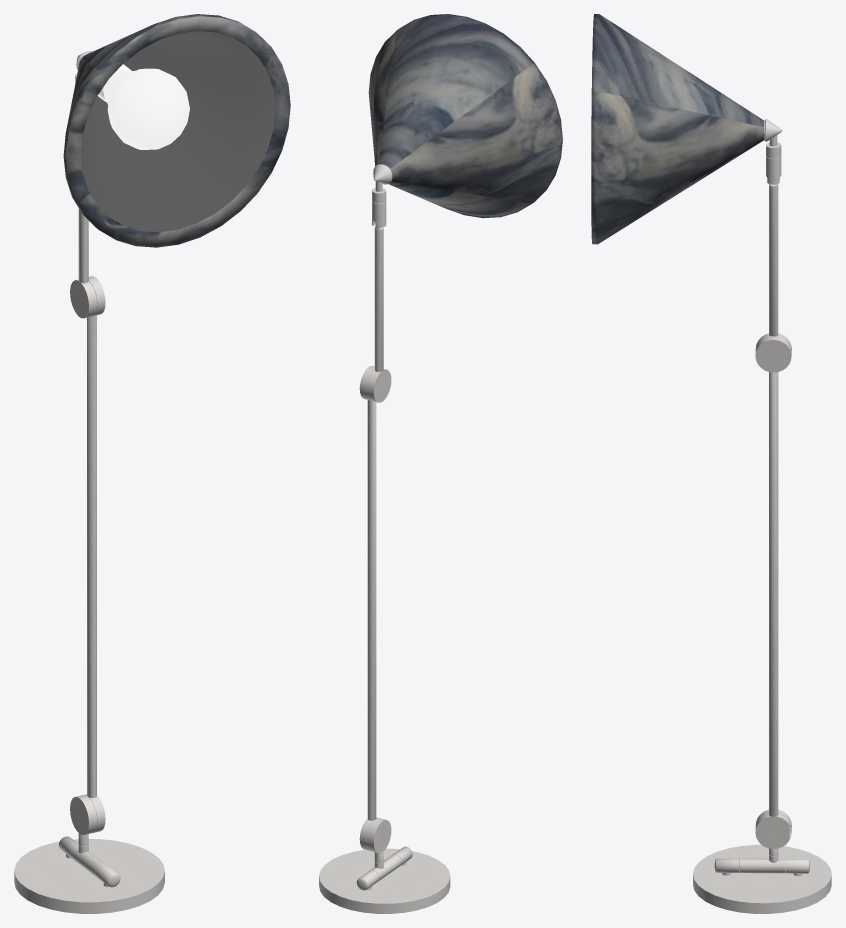
3 views of the same model, side by side, from view 1: azimuth 30°, elevation 25°; view 2: azimuth 150°, elevation 25°; view 3: azimuth 270°, elevation 25° (orthographic). The views are drawn at different scales.
Visible parts, largest first — view 1: Abajur, Support, S_LightBulb, LongArm, ShortArm, CircleJoint, SupportJointHolder; view 2: Abajur, Support, LongArm, ShortArm, CircleJoint, AbajurJoint, SupportJointHolder; view 3: Abajur, LongArm, Support, ShortArm, SupportJointHolder, SupportJoint, AbajurJoint.
Boxes of the visible parts, x1,y1,x2,y2 form: Abajur: (63, 14, 290, 247); Support: (14, 839, 164, 913); S_LightBulb: (97, 64, 189, 149); LongArm: (85, 276, 105, 832); ShortArm: (70, 208, 97, 318); CircleJoint: (70, 795, 97, 846); SupportJointHolder: (58, 836, 120, 887); Abajur: (368, 14, 562, 218); Support: (319, 848, 450, 913); LongArm: (359, 366, 378, 850); ShortArm: (367, 222, 391, 402); CircleJoint: (367, 818, 391, 863); AbajurJoint: (372, 164, 392, 203); SupportJointHolder: (356, 846, 412, 890); Abajur: (591, 14, 763, 244); LongArm: (755, 336, 791, 848); Support: (693, 844, 831, 913); ShortArm: (755, 184, 791, 350); SupportJointHolder: (714, 858, 809, 875); SupportJoint: (739, 854, 785, 873); AbajurJoint: (764, 119, 782, 158).
Bounding box in the file's own units: 6.25 × 25.02 × 6.36.
6 materials, 3 textured.
